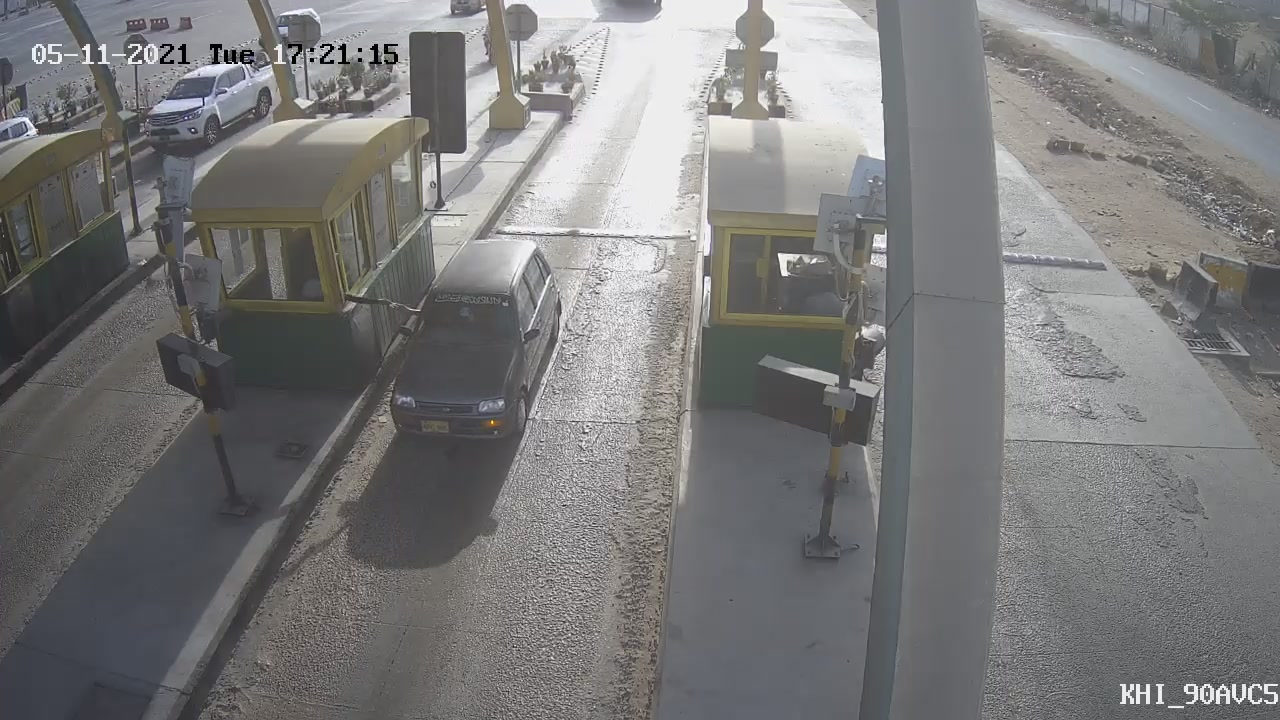F1: (361, 221, 590, 465)
